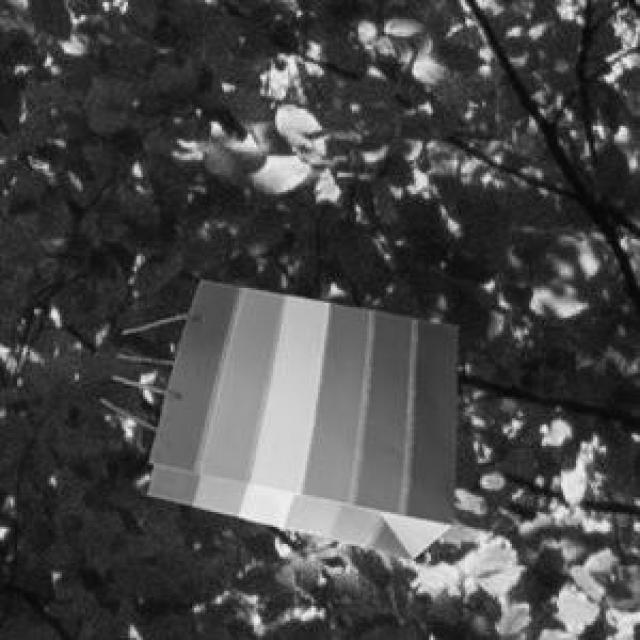paper: (143, 277, 453, 555)
